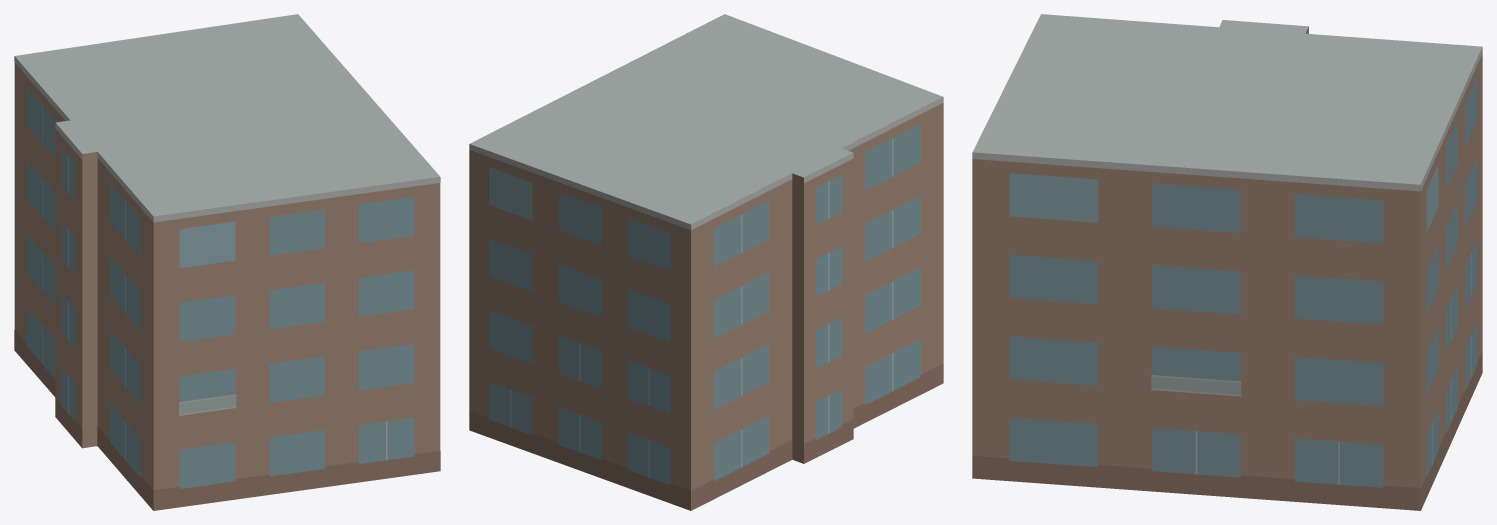
Rendered from survey-upis-32657084.glb.
3 views of the same model, side by side, from view 1: azimuth 30°, elevation 25°; view 2: azimuth 150°, elevation 25°; view 3: azimuth 270°, elevation 25° (orthographic). The views are drawn at different scales.
Parts seen in each view (by area): view 1: survey-upis-32657084.tmp; view 2: survey-upis-32657084.tmp; view 3: survey-upis-32657084.tmp.
Boxes of the visible parts, x1=… form: survey-upis-32657084.tmp: x1=14, y1=14, x2=440, y2=510; survey-upis-32657084.tmp: x1=469, y1=14, x2=943, y2=510; survey-upis-32657084.tmp: x1=972, y1=14, x2=1482, y2=510.
Bounding box in the file's own units: 13.49 × 12 × 17.03.
